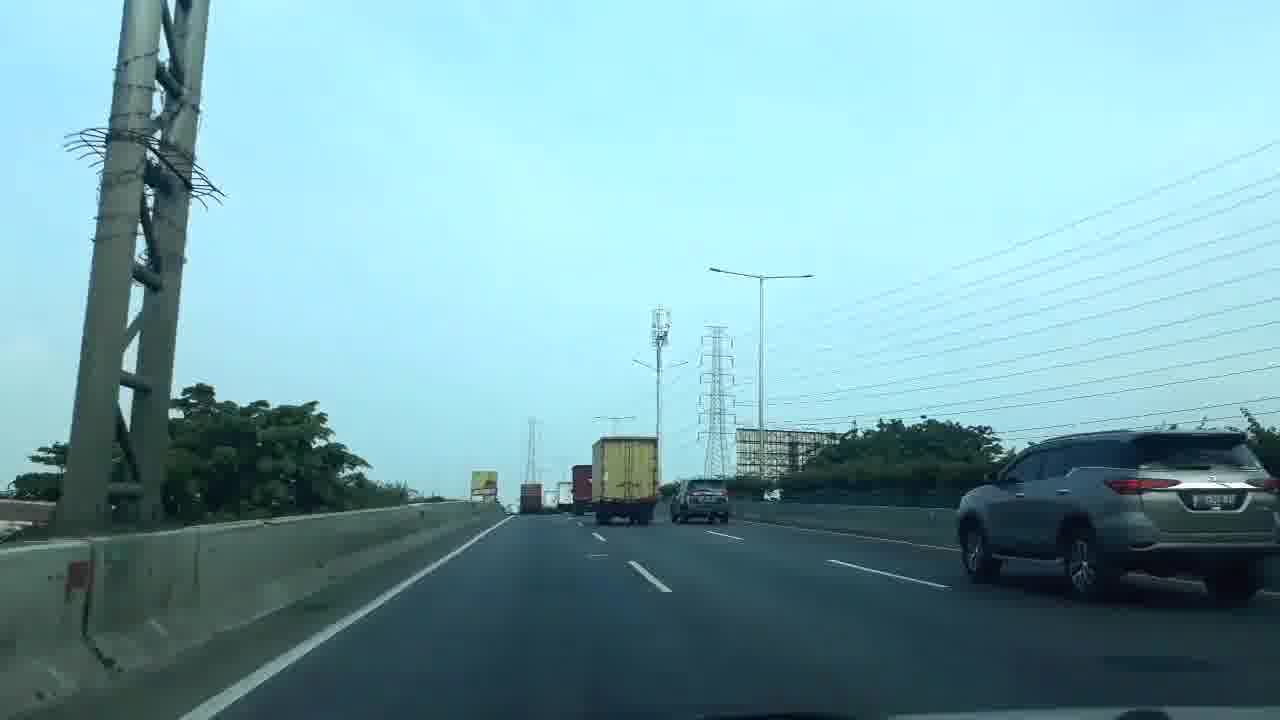plate_positive: (1192, 493, 1240, 508)
